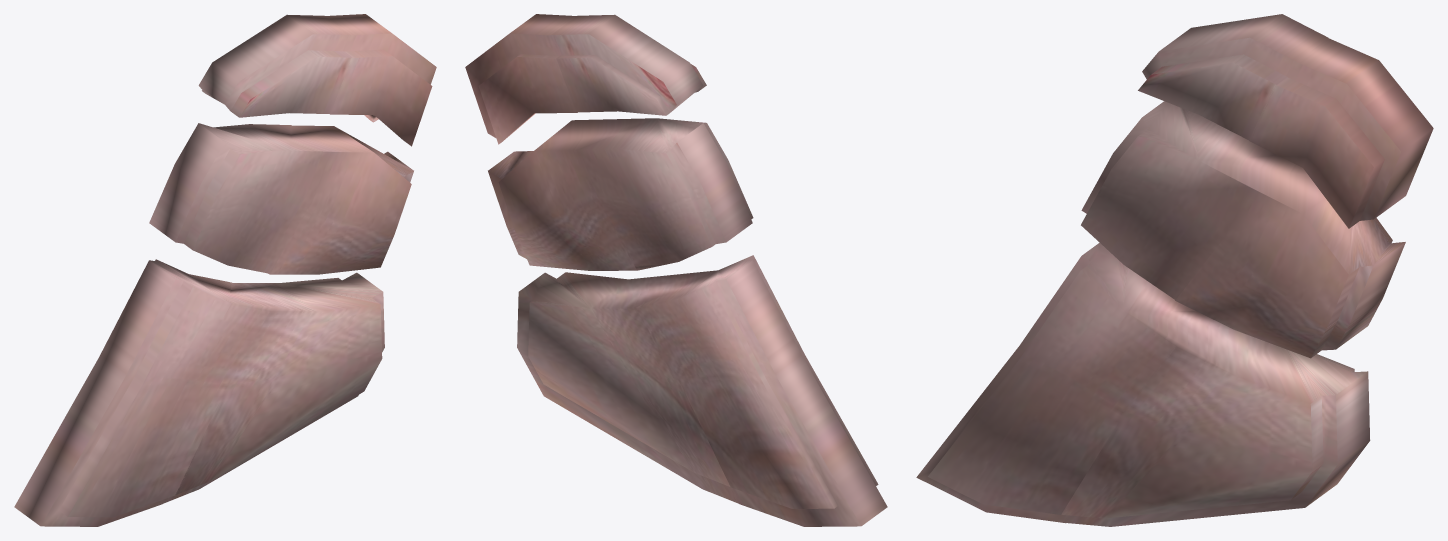
Rendered from dada ayam 2.fbx.
The picture shows the model from 3 angles, left to right: view 1: azimuth 30°, elevation 25°; view 2: azimuth 150°, elevation 25°; view 3: azimuth 330°, elevation 25°; orthographic projection. The views are drawn at different scales.
Parts seen in each view (by area): view 1: potongan 2, potongan 002, potongan 02; view 2: potongan 2, potongan 002, potongan 02; view 3: potongan 2, potongan 002, potongan 02.
Boxes of the visible parts, bbox=[...] form: potongan 2: bbox=[14, 259, 384, 526]; potongan 002: bbox=[149, 123, 413, 274]; potongan 02: bbox=[198, 14, 436, 146]; potongan 2: bbox=[517, 255, 887, 526]; potongan 002: bbox=[488, 118, 753, 270]; potongan 02: bbox=[465, 14, 706, 144]; potongan 2: bbox=[916, 242, 1370, 526]; potongan 002: bbox=[1081, 101, 1405, 358]; potongan 02: bbox=[1138, 14, 1433, 228].
Size of the model in its own units: 276 by 293 by 47.24.
Materials: 1 (1 with a texture image).
